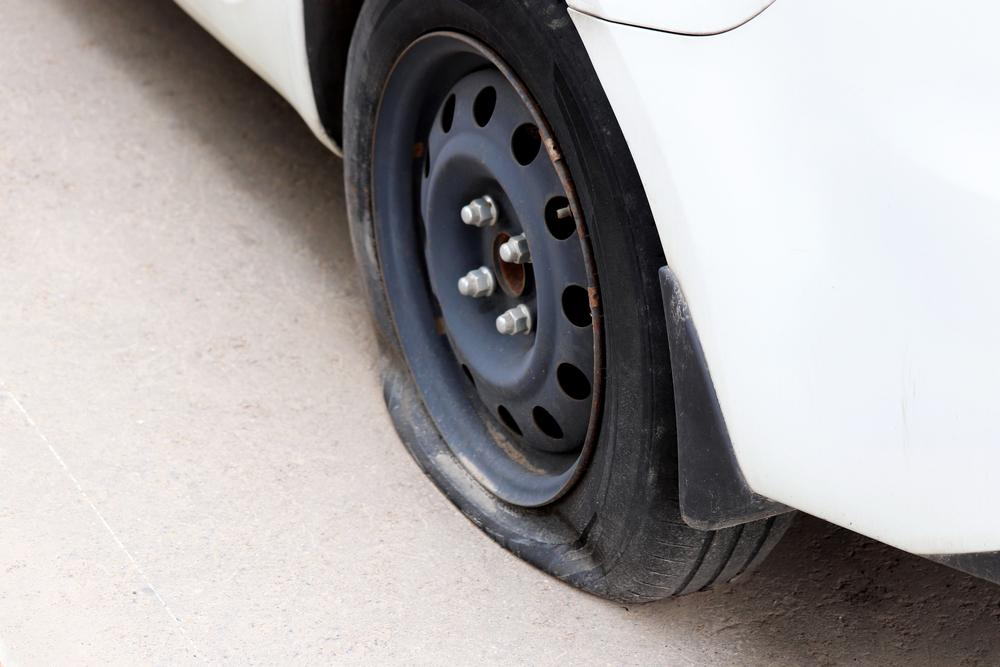tire flat: (344, 0, 795, 605)
